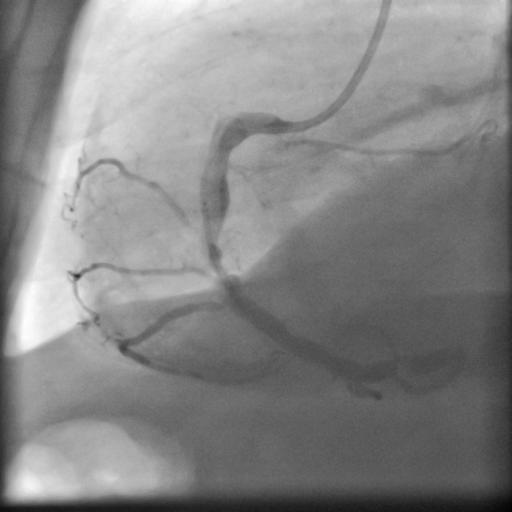Stenosis: (200, 230, 238, 288)
